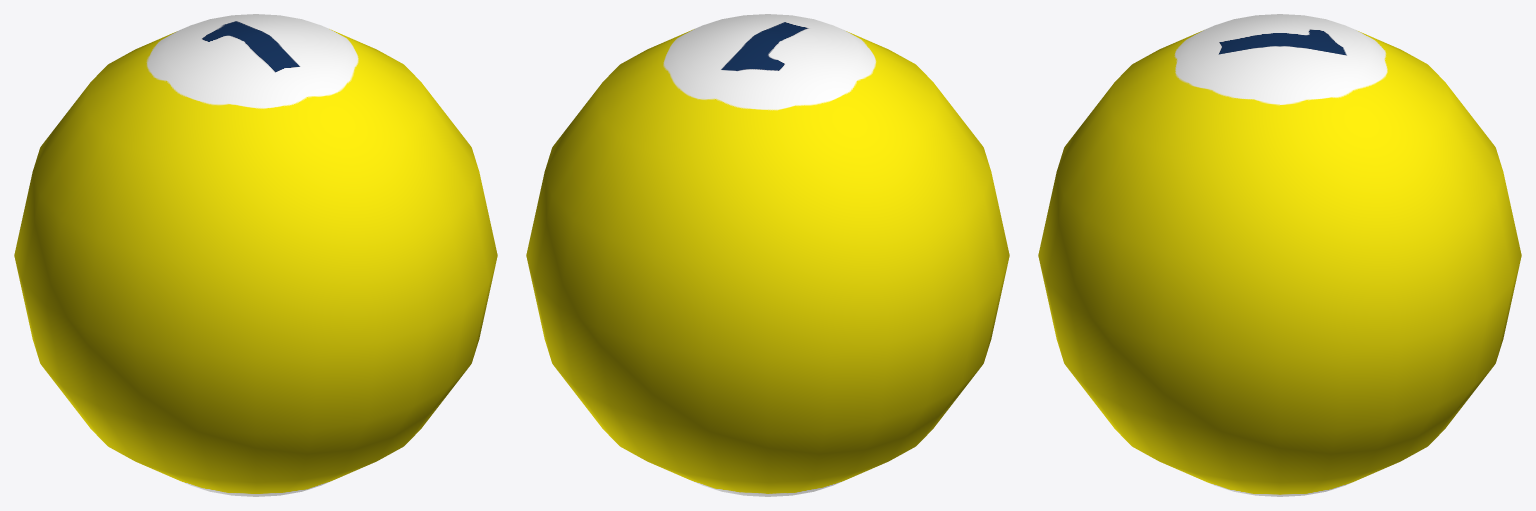
Rendered from BilliardsBall.fbx.
3 renders of one model, left to right at view 1: azimuth 30°, elevation 25°; view 2: azimuth 150°, elevation 25°; view 3: azimuth 270°, elevation 25°, orthographic.
Visible parts, largest first — view 1: Sphere; view 2: Sphere; view 3: Sphere.
Boxes of the visible parts, <box> form: Sphere: <box>14,14,497,496</box>; Sphere: <box>526,14,1009,496</box>; Sphere: <box>1038,14,1521,496</box>.
Bounding box in the file's own units: 111 × 111 × 111.
Materials: 1 (1 with a texture image).
